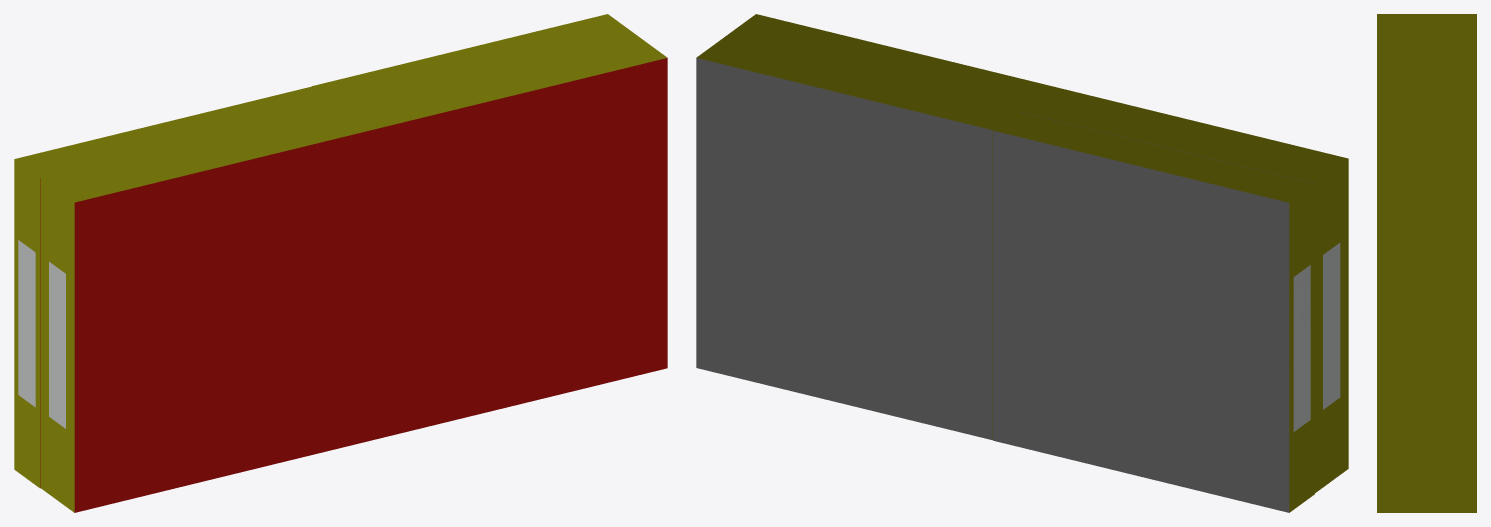
The model's file is idf.obj.
3 views of the same model, side by side, from view 1: azimuth 30°, elevation 25°; view 2: azimuth 150°, elevation 25°; view 3: azimuth 270°, elevation 25° (orthographic). The views are drawn at different scales.
Size of the model in its own units: 40.03 by 20.02 by 7.
